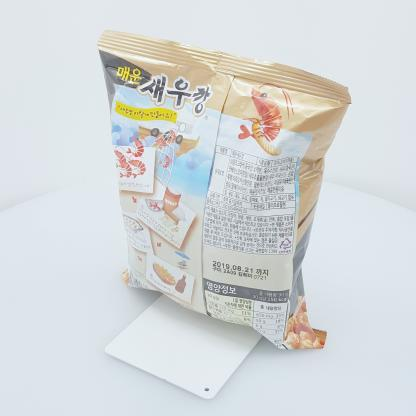Plastic Packaging: (92, 23, 356, 354)
